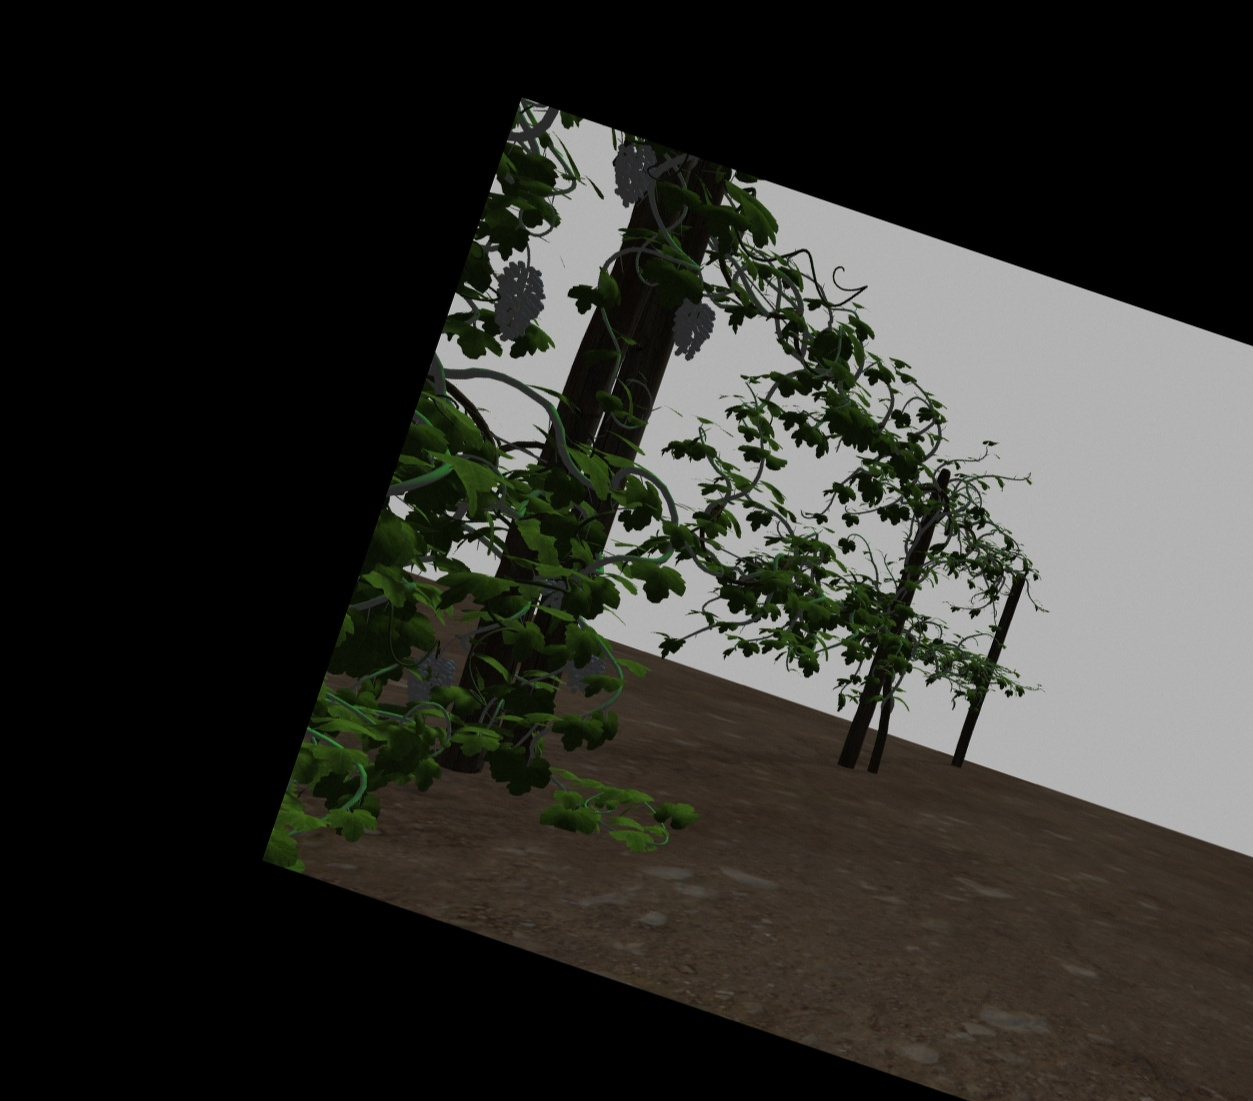grape: (491, 263, 542, 344), (609, 141, 655, 207), (405, 652, 450, 709), (669, 301, 711, 359), (566, 652, 603, 695)
